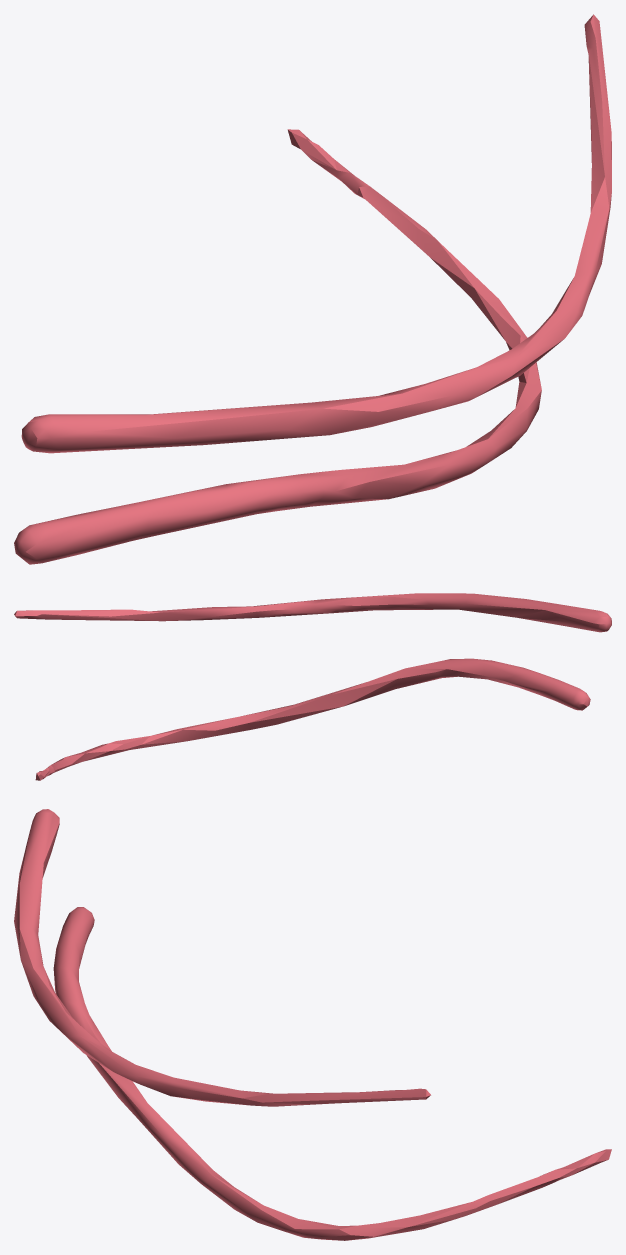
The model's file is fma50569_fj1684m.glb.
The picture shows the model from 3 angles, top to bottom: view 1: azimuth 30°, elevation 25°; view 2: azimuth 150°, elevation 25°; view 3: azimuth 270°, elevation 25°; orthographic projection. The views are drawn at different scales.
Parts seen in each view (by area): view 1: FMA50569_FJ1684M; view 2: FMA50569_FJ1684M; view 3: FMA50569_FJ1684M.
Boxes of the visible parts, <box> form: FMA50569_FJ1684M: <box>14,14,611,564</box>; FMA50569_FJ1684M: <box>14,593,611,780</box>; FMA50569_FJ1684M: <box>14,809,611,1240</box>.
Size of the model in its own units: 0.0235 by 0.00758 by 0.0206.
